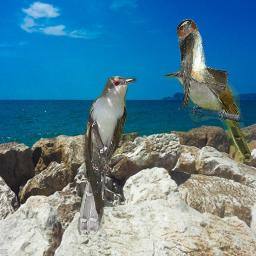Cuckoo: (77, 74, 137, 235), (164, 68, 251, 162)
Swallow: (176, 19, 228, 112)
